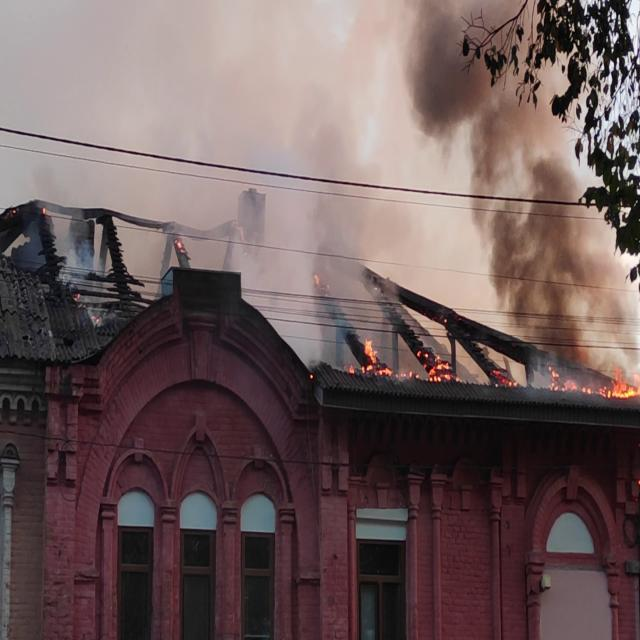fire: (595, 365, 640, 400)
smoke: (493, 204, 586, 329), (416, 15, 500, 126), (263, 195, 321, 298)
